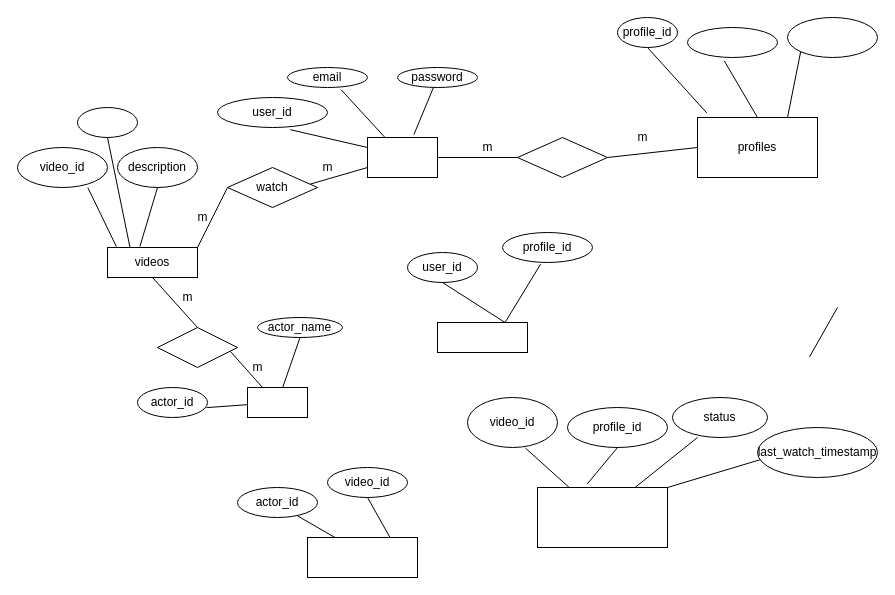
Some shapes in this 895 by 595 pixel diagram are drawn without their labels. Each missing label, with the centre of its shape:
"actor_video_history" belongs at [362,557].
"actors" belongs at [277,402].
"create" belongs at [562,157].
"has" belongs at [197,347].
"profile_name" belongs at [732,42].
"profile_type" belongs at [832,37].
"title" belongs at [107,122].
"user_profiles" belongs at [482,337].
"users" belongs at [402,157].
"video_watch_status" belongs at [602,517].
